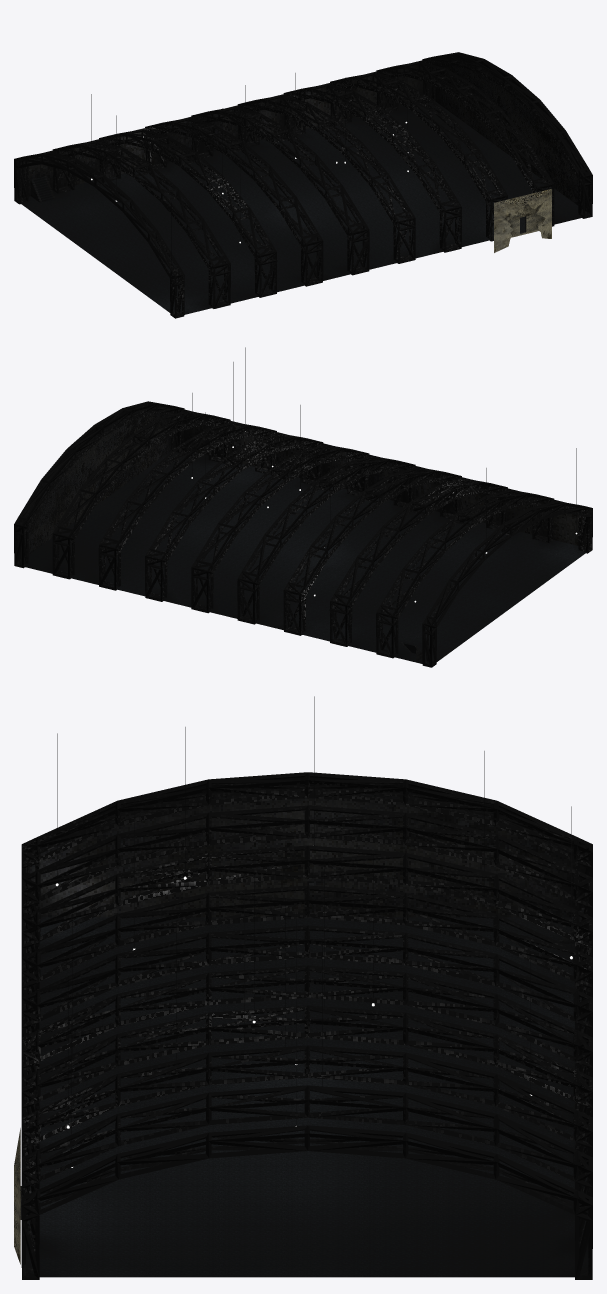
Rendered from office_building.glb.
3 views of the same model, one above another, from view 1: azimuth 30°, elevation 25°; view 2: azimuth 150°, elevation 25°; view 3: azimuth 270°, elevation 25° (orthographic). The views are drawn at different scales.
Visible parts, largest first — view 1: room, scaffold, wall patch hole_nw.001, volume, Exit; view 2: room, scaffold, volume; view 3: scaffold, room, volume, wall patch hole_nw.001.
Boxes of the visible parts, bbox=[...] form: room: bbox=[16, 55, 590, 315]; scaffold: bbox=[14, 52, 592, 318]; wall patch hole_nw.001: bbox=[494, 189, 551, 252]; volume: bbox=[91, 68, 408, 265]; Exit: bbox=[31, 176, 55, 202]; room: bbox=[16, 404, 589, 664]; scaffold: bbox=[14, 401, 592, 667]; volume: bbox=[191, 347, 577, 602]; scaffold: bbox=[21, 772, 592, 1279]; room: bbox=[20, 777, 588, 1277]; volume: bbox=[55, 696, 572, 1167]; wall patch hole_nw.001: bbox=[14, 1128, 20, 1264].
Size of the model in its own units: 54.29 by 20.64 by 36.72.
5 materials, 4 textured.
